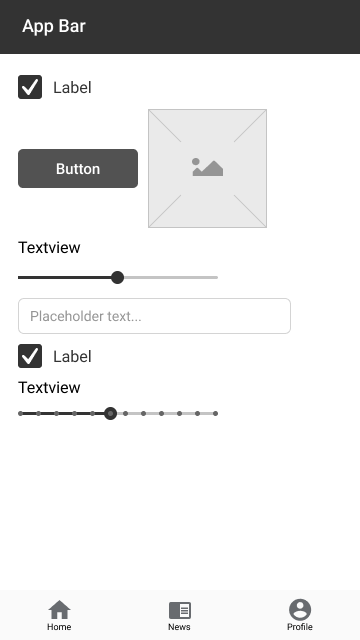button: (17, 147, 139, 190)
checkBox: (17, 342, 93, 369), (17, 74, 91, 100)
editText: (17, 297, 291, 335)
imageView: (146, 108, 269, 229)
navigationButton: (1, 590, 360, 639)
slider: (15, 407, 224, 421)
slider1: (17, 271, 217, 284)
textView: (15, 379, 82, 397), (19, 239, 82, 256)
toolbar: (1, 1, 360, 54)
